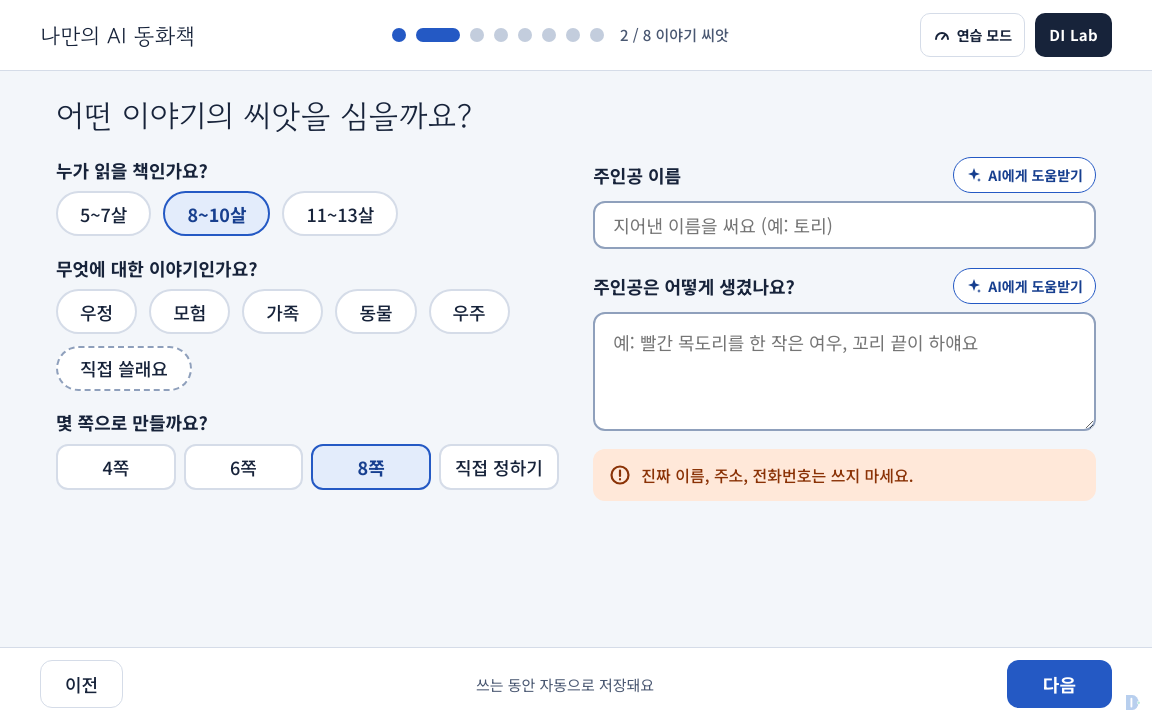
Test: SeedScreen › "custom" page count shows a stepper that starts at 10 and stays within 2-20
This screenshot has width=1152, height=720.
Later steps or results of the test are not shown.
Click the button "직접 정하기". click: (499, 467)
box: [439,444,559,490]
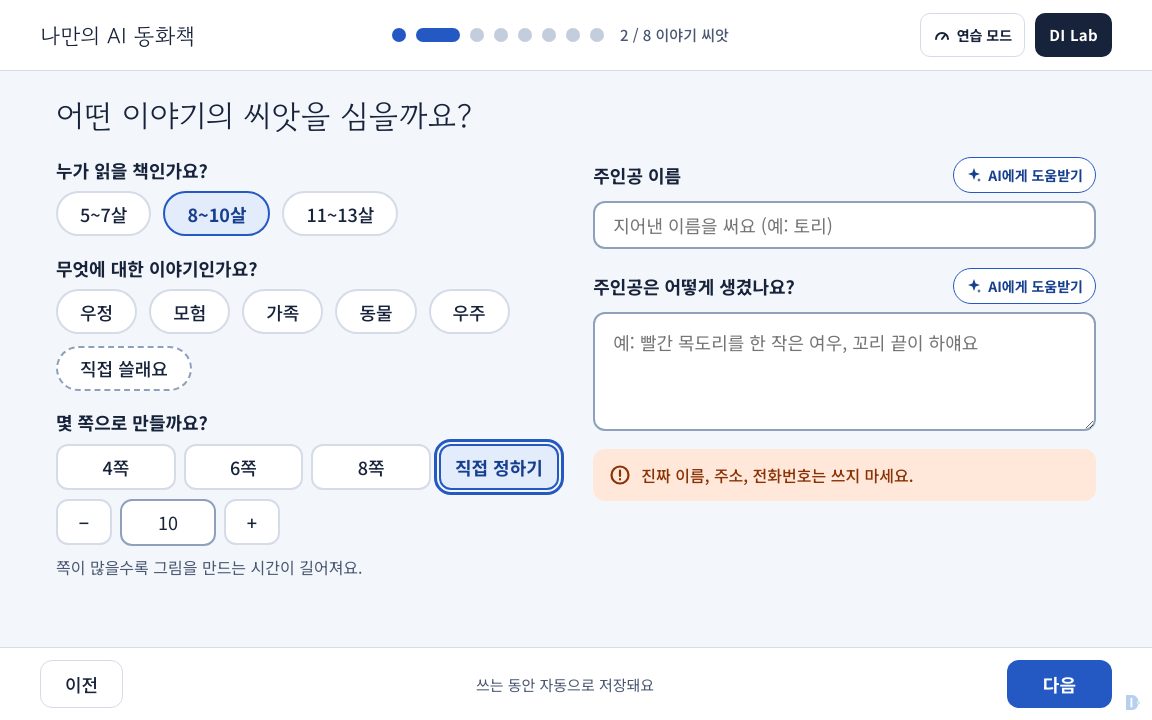
Expected: the button "직접 정하기" is pressed, [439,444,559,490]
Expected: the button "8쪽" is not pressed, [311,444,431,490]
Click the button named "쪽 수 늘리기". click: (252, 522)
box: [224,499,280,545]
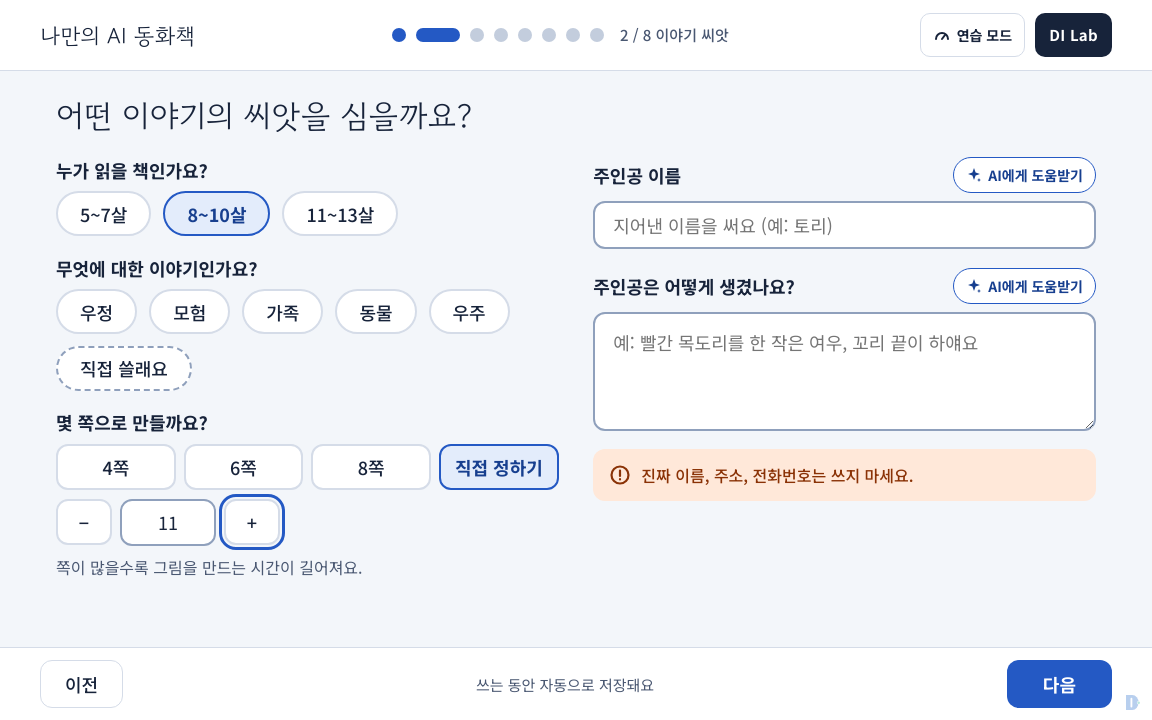
Replace the text in the number field named "쪽 수 (2~20쪽)" with "20". click: (168, 522)
box: [120,499,216,546]
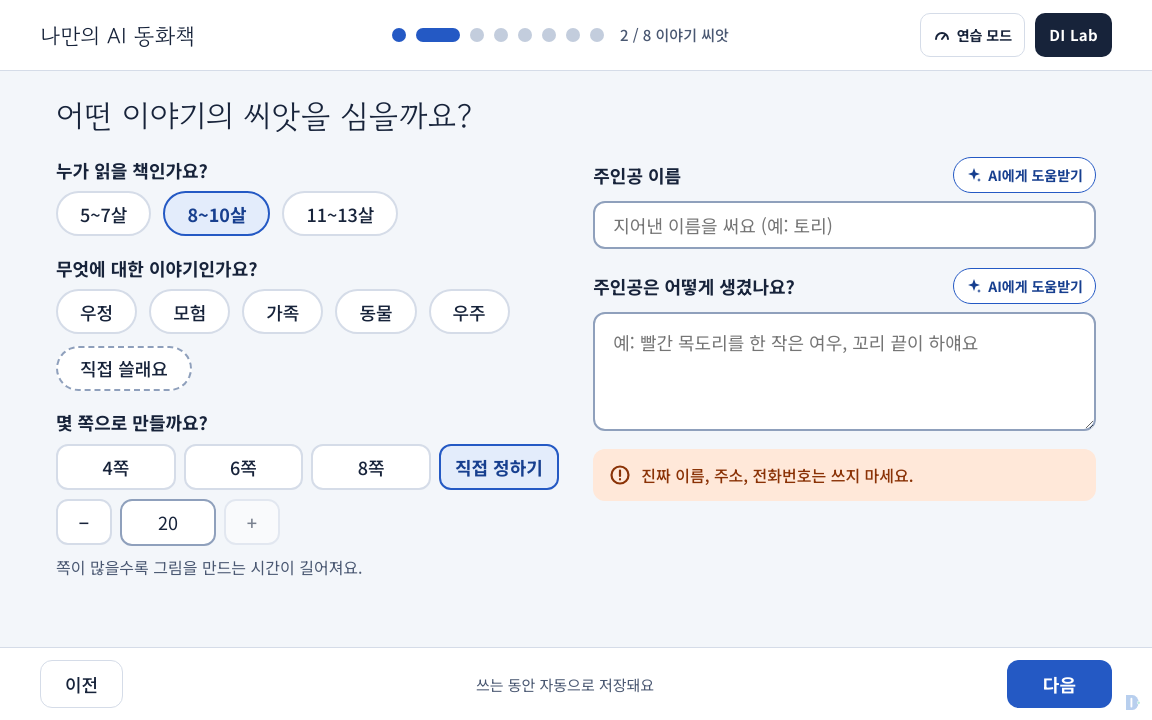
Expected: the button named "쪽 수 늘리기" is disabled, [224,499,280,545]
